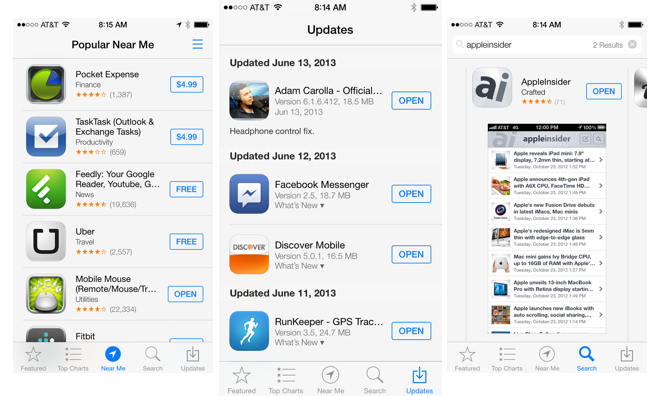searchIcon: (141, 342, 165, 372), (364, 362, 388, 392), (575, 344, 597, 364)
